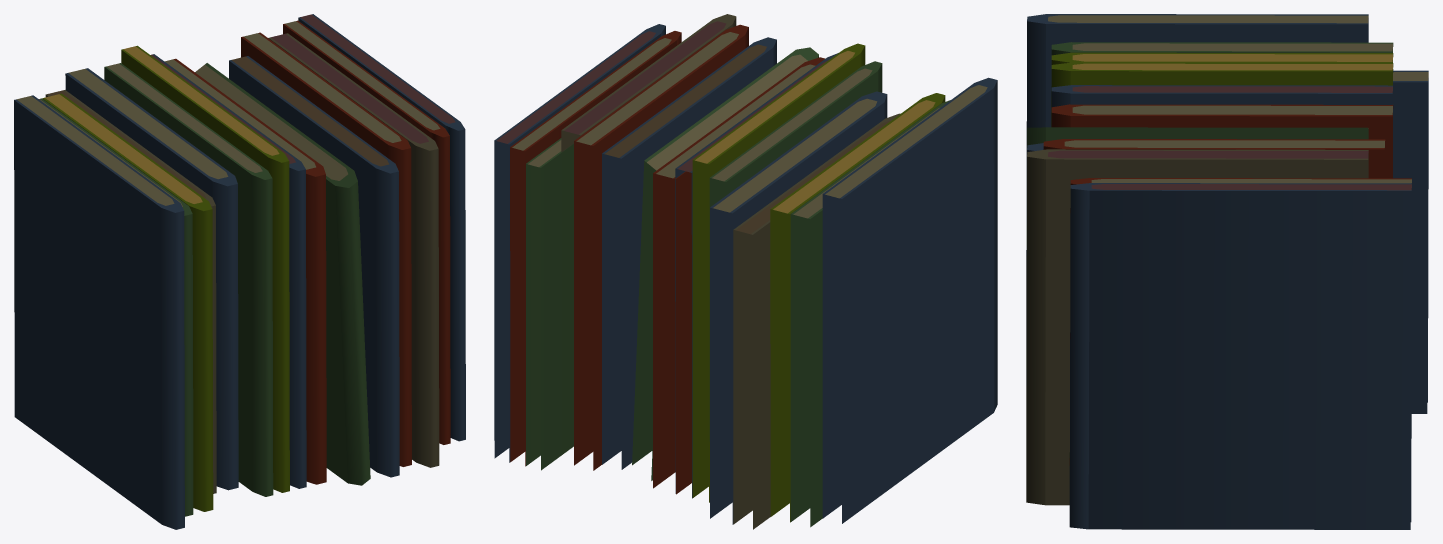
File: books.glb
3 views of the same model, side by side, from view 1: azimuth 30°, elevation 25°; view 2: azimuth 150°, elevation 25°; view 3: azimuth 270°, elevation 25° (orthographic). The views are drawn at different scales.
Visible parts, largest first — view 1: BookGroup_Medium_1; view 2: BookGroup_Medium_1; view 3: BookGroup_Medium_1.
Part boxes in pixels (x1,y1,x2,y2): BookGroup_Medium_1: [14, 14, 465, 529]; BookGroup_Medium_1: [494, 14, 997, 529]; BookGroup_Medium_1: [1026, 14, 1428, 529].
Size of the model in its own units: 1 by 1 by 1.
